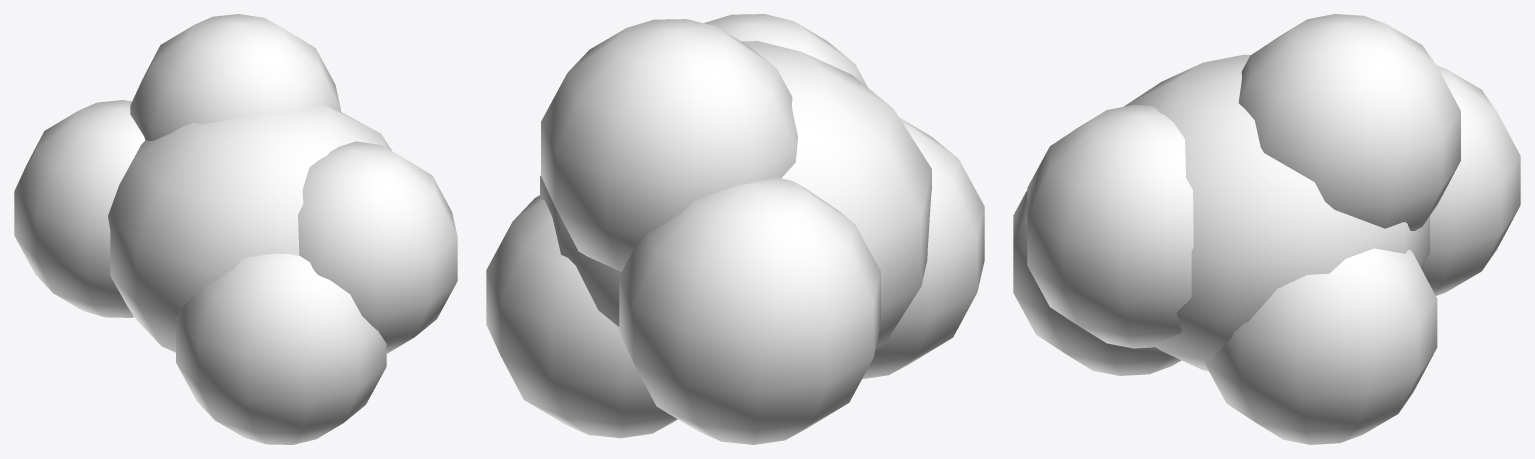
Rendered from Dust.fbx.
3 renders of one model, left to right at view 1: azimuth 30°, elevation 25°; view 2: azimuth 150°, elevation 25°; view 3: azimuth 270°, elevation 25°, orthographic. The views are drawn at different scales.
Parts seen in each view (by area): view 1: 球.005; view 2: 球.005; view 3: 球.005.
Part boxes in pixels (x1,y1,x2,y2): 球.005: [14, 14, 457, 444]; 球.005: [486, 14, 984, 444]; 球.005: [1013, 14, 1520, 444].
Bounding box in the file's own units: 87.92 × 87.09 × 106.
Materials: 1 (1 with a texture image).
